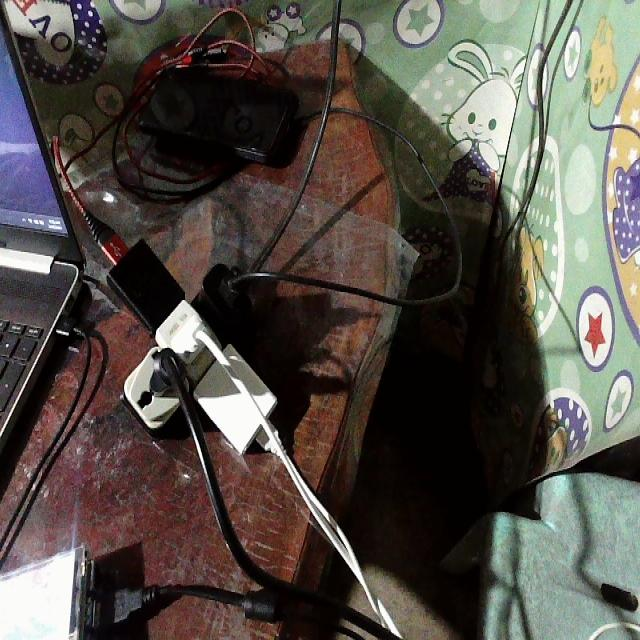-: (100, 227, 275, 456)
